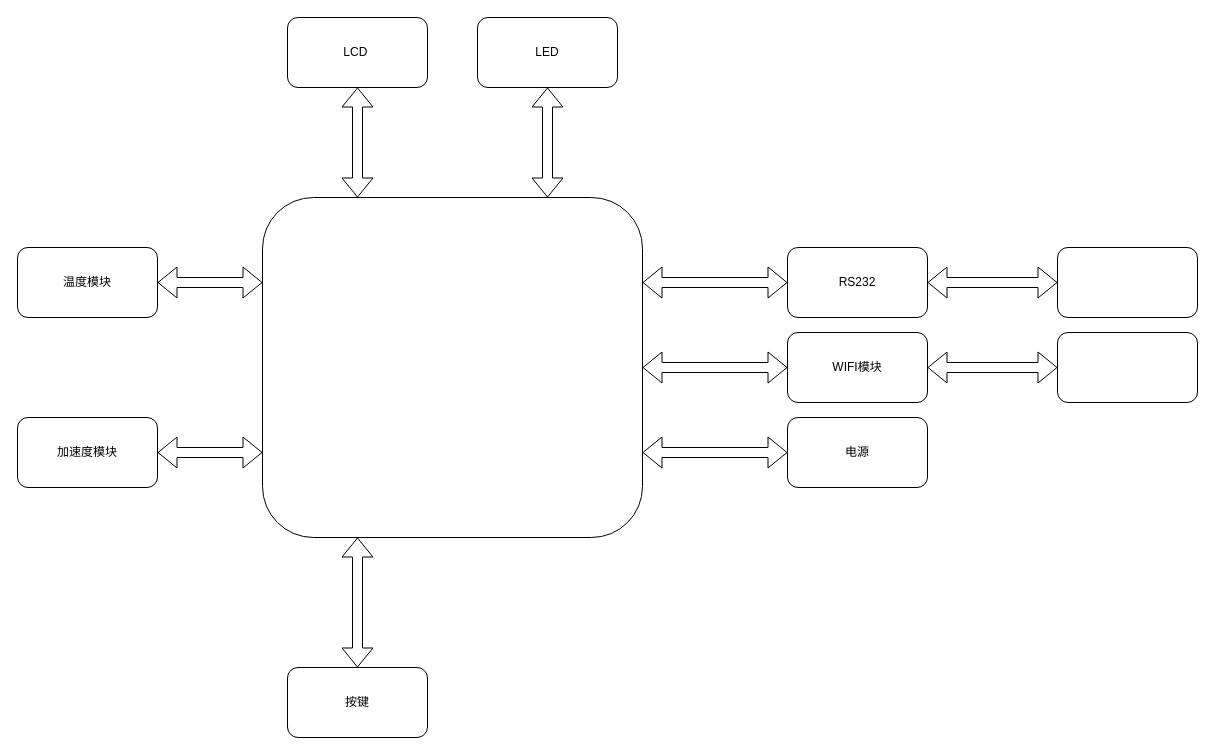
Some shapes in this 1215 by 755 pixel diagram are drawn without their labels. The shapes that lost their labels are listed below. From the top down, each one's centre as x and y in pixels, then its label:
(x=1127, y=282): PC
(x=452, y=367): CC3200 LanuchPad
(x=1127, y=367): 浏览器
